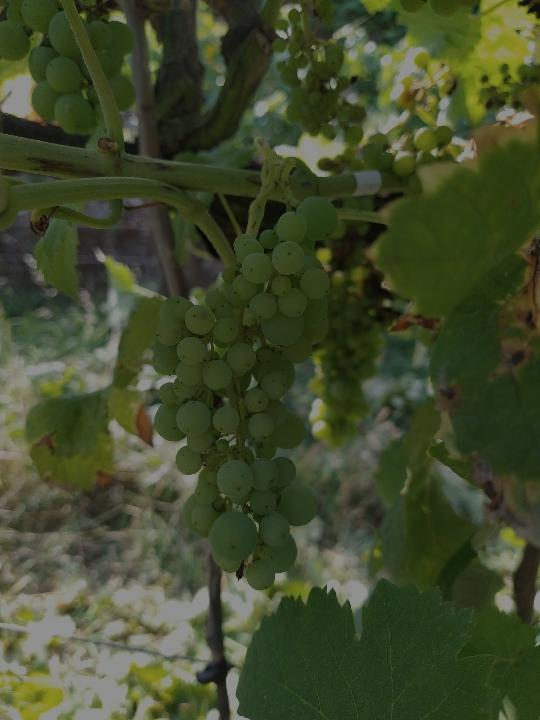grape: (151, 192, 341, 594)
